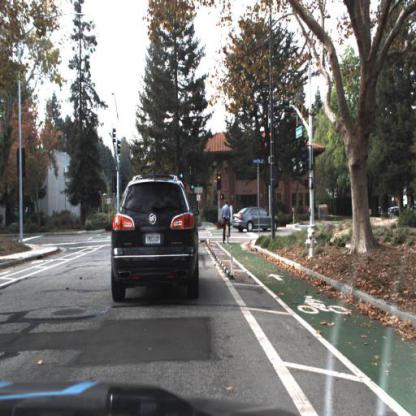biker: (220, 199, 232, 247)
car: (105, 166, 203, 310), (232, 204, 281, 236)
trafficLight-Green: (191, 173, 197, 191), (179, 163, 185, 180)
trafficLight-Red: (266, 130, 274, 155), (217, 174, 222, 191)
